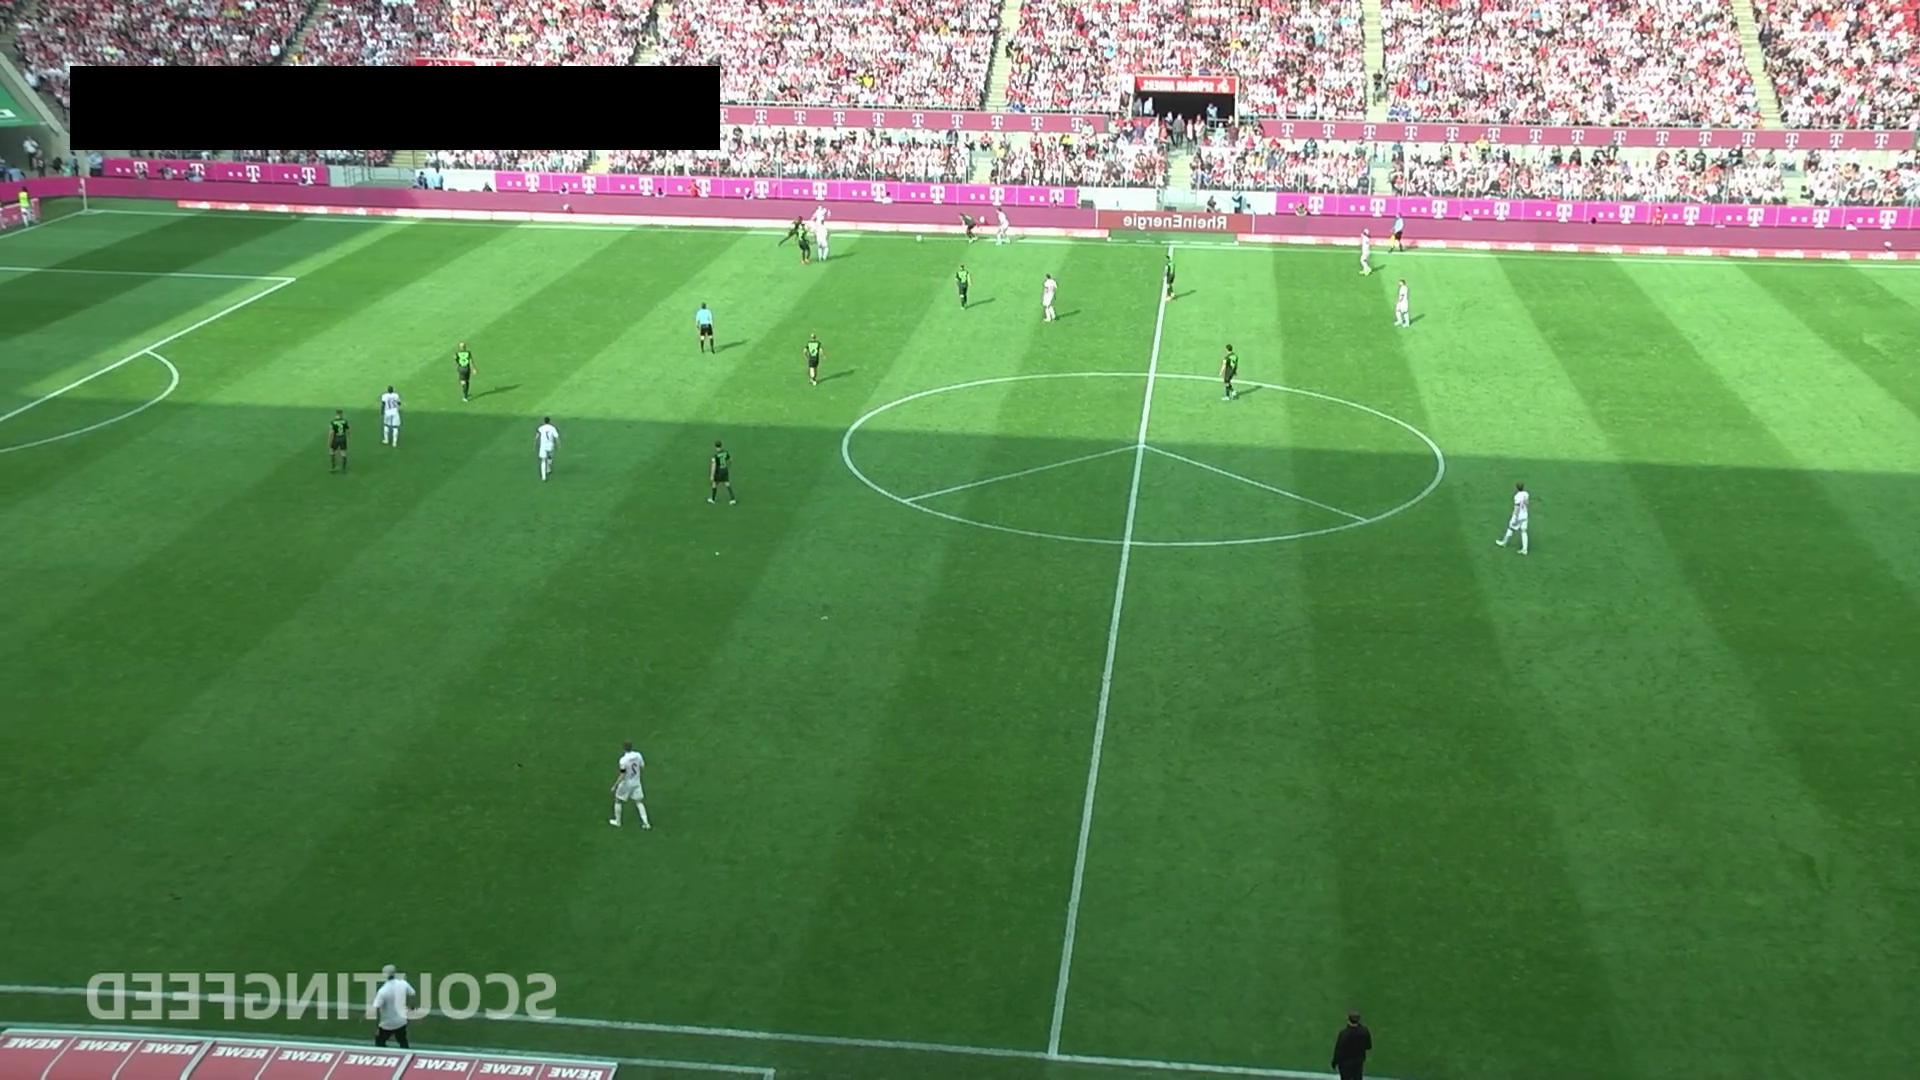ball: (914, 233, 924, 244)
player: (608, 739, 651, 830), (1330, 1010, 1373, 1079), (1496, 481, 1530, 554), (707, 440, 738, 505), (532, 415, 561, 482), (327, 408, 351, 472), (380, 384, 403, 447), (455, 340, 477, 402), (802, 332, 824, 386), (1219, 343, 1239, 401), (779, 217, 807, 247), (796, 219, 814, 264), (1042, 273, 1058, 322), (1394, 279, 1410, 327), (955, 263, 970, 309), (815, 220, 831, 262), (1359, 227, 1373, 275), (994, 205, 1010, 245), (1163, 254, 1176, 301), (960, 212, 979, 242), (813, 205, 827, 242)
referee: (695, 300, 716, 354), (1388, 213, 1405, 253)
